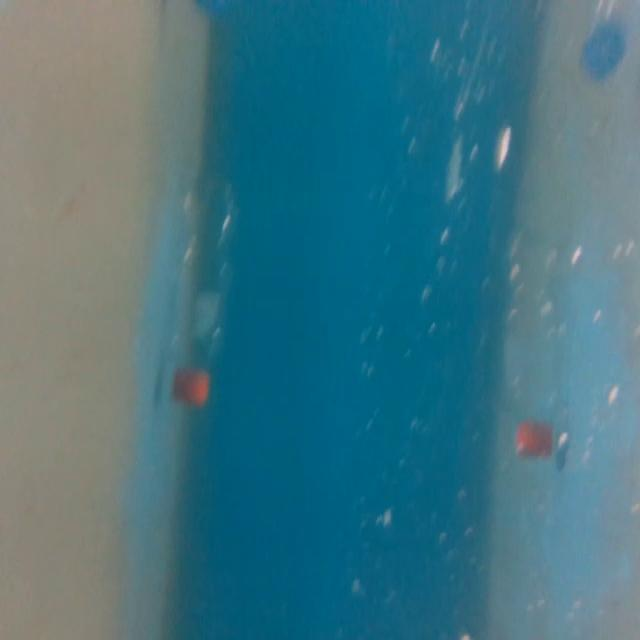plastic bottle: (171, 172, 246, 416)
